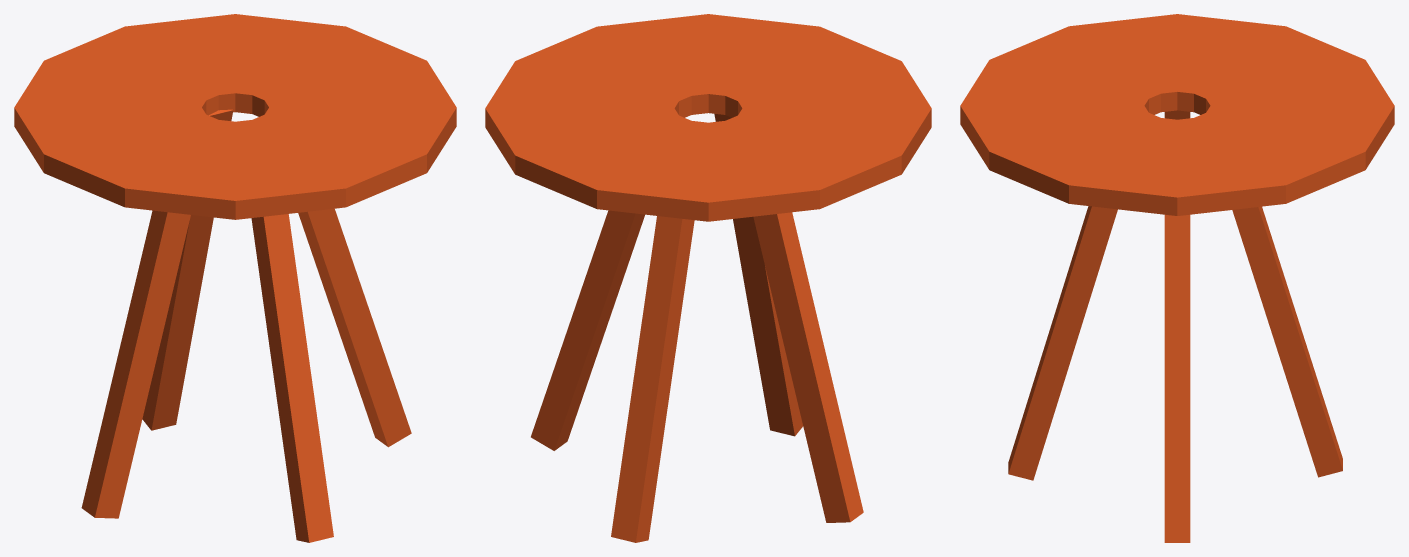
The model's file is mesa1.fbx.
The picture shows the model from 3 angles, left to right: view 1: azimuth 30°, elevation 25°; view 2: azimuth 150°, elevation 25°; view 3: azimuth 270°, elevation 25°; orthographic projection. The views are drawn at different scales.
Visible parts, largest first — view 1: Cylinder, Cube.003, Cube.002, Cube.001, Cube; view 2: Cylinder, Cube, Cube.002, Cube.001, Cube.003; view 3: Cylinder, Cube.001, Cube.003, Cube.
Part boxes in pixels (x1,y1,x2,y2): Cylinder: [14, 14, 456, 219]; Cube.003: [251, 214, 333, 542]; Cube.002: [81, 210, 190, 518]; Cube.001: [298, 208, 411, 447]; Cube: [142, 109, 233, 430]; Cylinder: [485, 14, 931, 221]; Cube: [611, 216, 694, 542]; Cube.002: [753, 212, 863, 522]; Cube.001: [531, 210, 644, 450]; Cube.003: [714, 113, 802, 436]; Cylinder: [960, 14, 1394, 215]; Cube.001: [1164, 214, 1190, 542]; Cube.003: [1008, 206, 1117, 480]; Cube: [1232, 206, 1342, 477].
Size of the model in its own units: 896 by 840 by 896.
